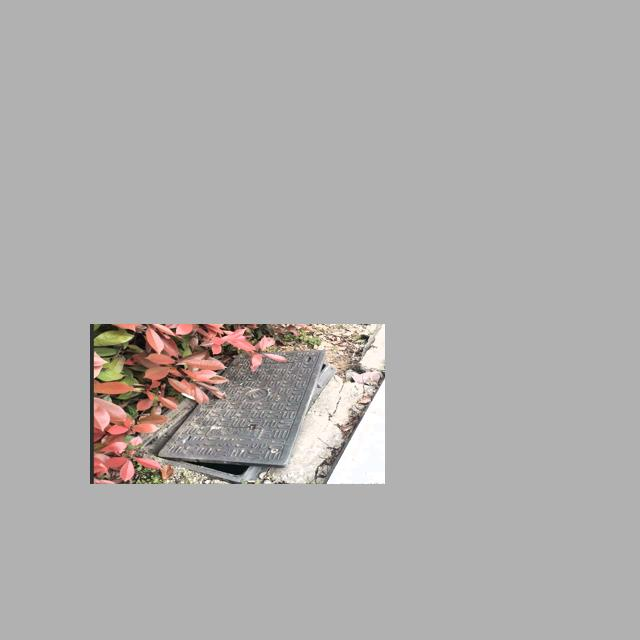uncovered: (130, 347, 337, 472)
